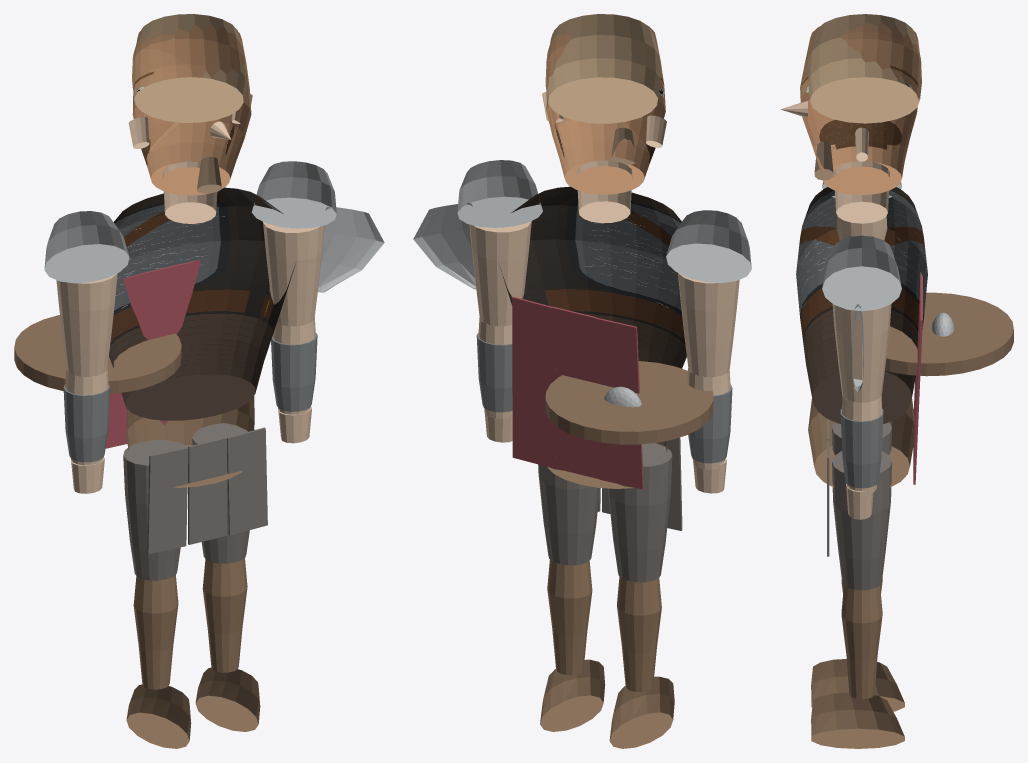
The model's file is Midgard_Hero_Viking_Skin_V4_Human_YUP.glb.
3 views of the same model, side by side, from view 1: azimuth 30°, elevation 25°; view 2: azimuth 150°, elevation 25°; view 3: azimuth 270°, elevation 25° (orthographic).
Parts seen in each view (by area): view 1: Torso, Head, HairCap, Shield, ShoulderArmor_L, UpperArm_R, UpperArm_L, ShoulderArmor_R, Thigh_L, Shin_R, Shin_L, TunicPanel_0 (+17 smaller); view 2: Torso, HairCap, Shield, Head, CapePanel_2, Thigh_L, ShoulderArmor_L, UpperArm_L, UpperArm_R, CapePanel_0, ShoulderArmor_R, Thigh_R (+17 smaller); view 3: Torso, Head, HairCap, Shield, Thigh_R, ShoulderArmor_R, UpperArm_R, Boot_R, Shin_R, Pelvis, Vambrace_R, Boot_L (+9 smaller).
Boxes of the visible parts, left/top/right/bottom form: Torso: left=109, top=187, right=295, bottom=420; Head: left=132, top=23, right=251, bottom=195; HairCap: left=132, top=14, right=246, bottom=122; Shield: left=14, top=315, right=181, bottom=393; ShoulderArmor_L: left=44, top=211, right=129, bottom=283; UpperArm_R: left=263, top=222, right=324, bottom=326; UpperArm_L: left=56, top=273, right=117, bottom=376; ShoulderArmor_R: left=251, top=161, right=336, bottom=228; Thigh_L: left=123, top=440, right=186, bottom=580; Shin_R: left=202, top=558, right=247, bottom=672; Shin_L: left=133, top=574, right=178, bottom=689; TunicPanel_0: left=147, top=447, right=188, bottom=554; Torso: left=499, top=186, right=686, bottom=368; HairCap: left=545, top=14, right=660, bottom=123; Shield: left=545, top=361, right=713, bottom=444; Head: left=546, top=26, right=665, bottom=194; CapePanel_2: left=512, top=296, right=556, bottom=468; Thigh_L: left=608, top=443, right=672, bottom=582; ShoulderArmor_L: left=666, top=210, right=751, bottom=282; UpperArm_L: left=678, top=273, right=739, bottom=377; UpperArm_R: left=469, top=221, right=531, bottom=326; CapePanel_0: left=592, top=318, right=643, bottom=489; ShoulderArmor_R: left=457, top=160, right=542, bottom=227; Thigh_R: left=538, top=464, right=599, bottom=565; Torso: left=796, top=187, right=927, bottom=423; Head: left=800, top=21, right=920, bottom=195; HairCap: left=808, top=14, right=921, bottom=123; Shield: left=885, top=292, right=1013, bottom=376; Thigh_R: left=832, top=451, right=891, bottom=590; ShoulderArmor_R: left=822, top=235, right=901, bottom=311; UpperArm_R: left=832, top=304, right=891, bottom=402; Boot_R: left=811, top=692, right=904, bottom=748; Shin_R: left=841, top=585, right=882, bottom=699; Pelvis: left=808, top=398, right=914, bottom=487; Vambrace_R: left=840, top=408, right=883, bottom=488; Boot_L: left=811, top=659, right=904, bottom=711.
Size of the model in its own units: 1.93 by 3.79 by 1.17.
11 materials, 2 textured.
